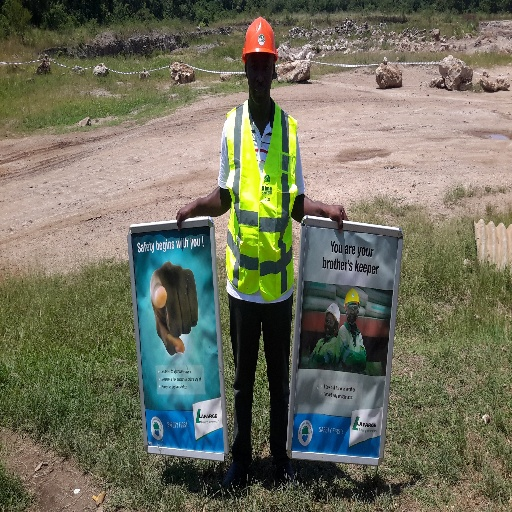hand: (149, 262, 197, 354), (329, 202, 347, 229), (176, 204, 191, 232)
